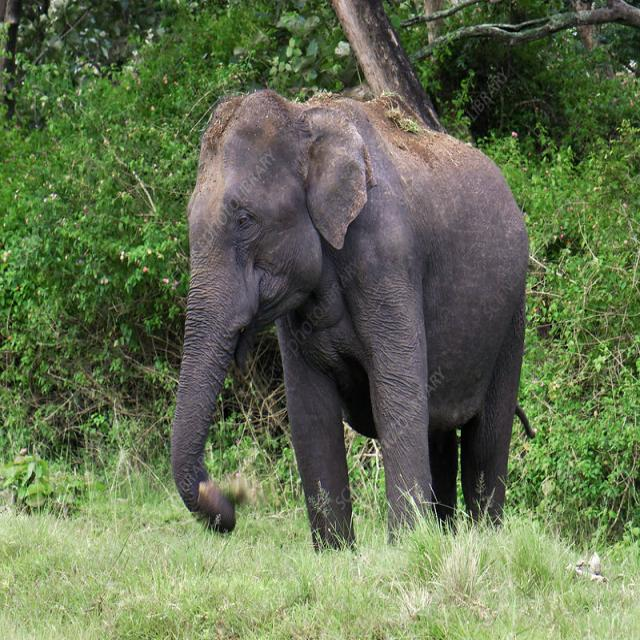Elephant: (167, 80, 549, 556)
